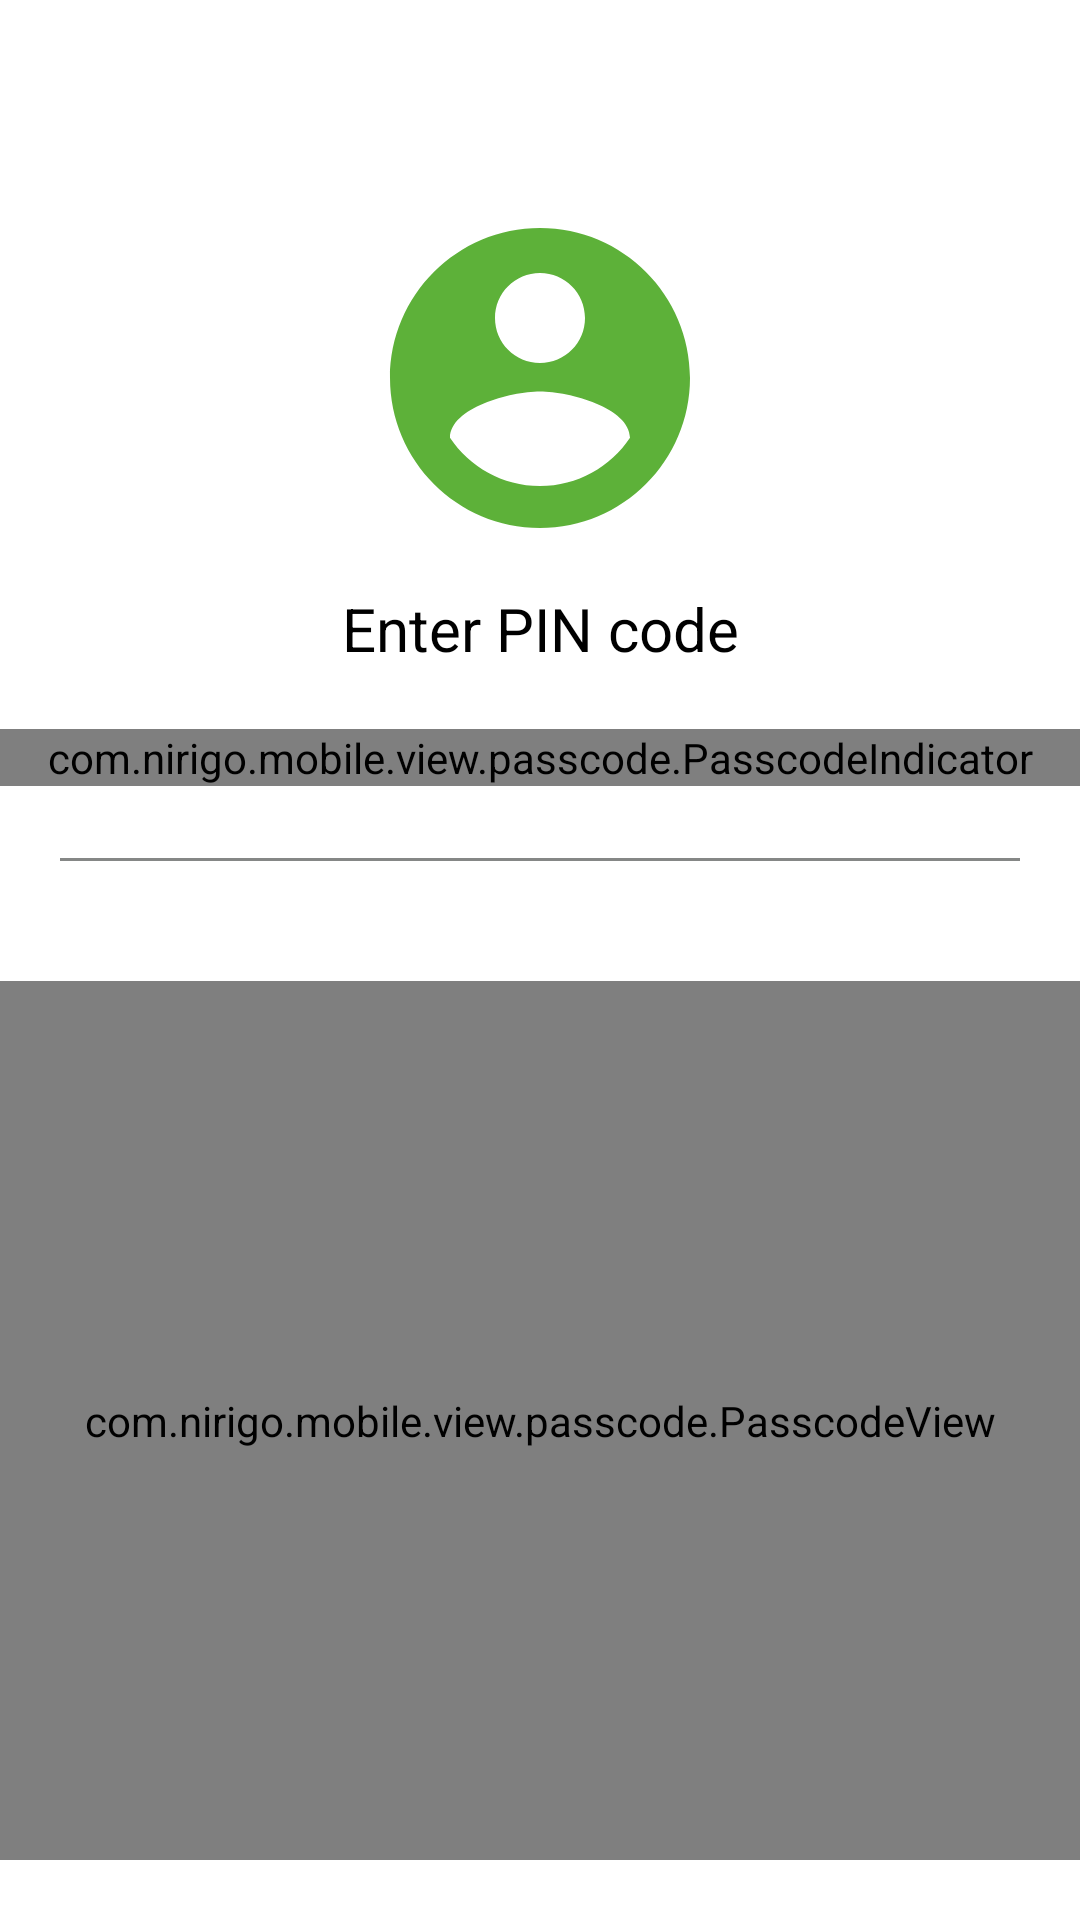

Screen size 1080px×1920px. Icon name, then its box in pixels as (x1, y1, x2, y2):
account two: (390, 228, 690, 528)
